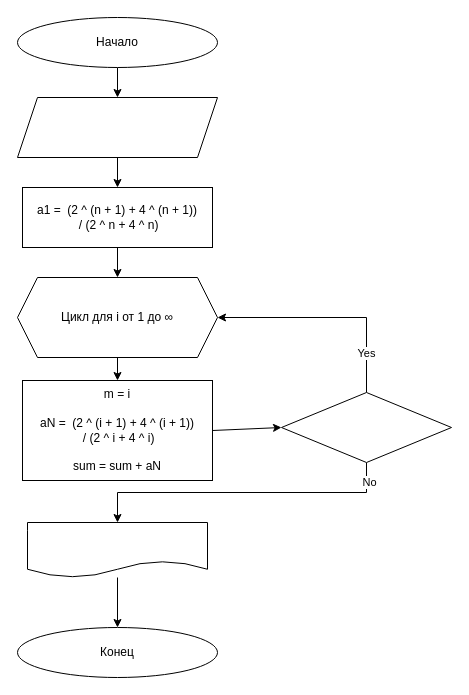
Image size: 469x695. Some labels were removed from this diagram. Here are the shapes that lost their labels. From the top down, the box of each, then its label:
(16, 96, 218, 158): e = 0.01, n = 1, a1 = 0, sum = 0, m = 1
(280, 392, 452, 462): abs(aN - 4) < e
(26, 522, 208, 578): m, S
